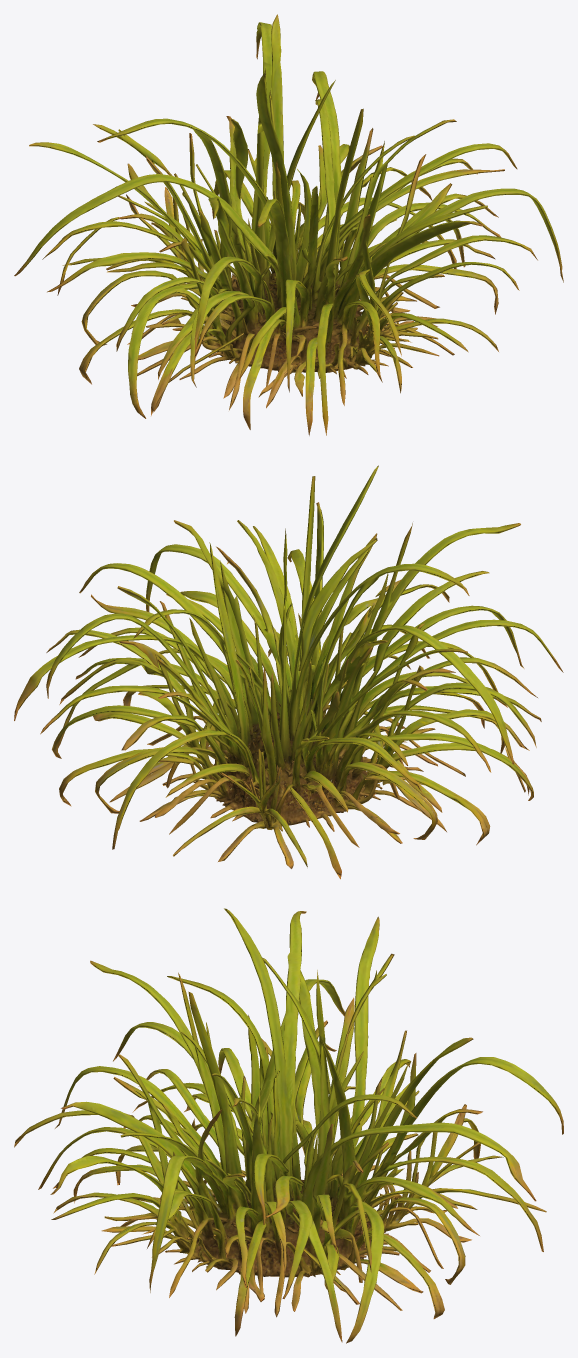
The model's file is grassLight-v1.glb.
3 views of the same model, one above another, from view 1: azimuth 30°, elevation 25°; view 2: azimuth 150°, elevation 25°; view 3: azimuth 270°, elevation 25° (orthographic). The views are drawn at different scales.
Parts seen in each view (by area): view 1: tripo_node_8fbcf214-b8a0-4c57-838d-b597ede164c9; view 2: tripo_node_8fbcf214-b8a0-4c57-838d-b597ede164c9; view 3: tripo_node_8fbcf214-b8a0-4c57-838d-b597ede164c9.
Boxes of the visible parts, x1=… form: tripo_node_8fbcf214-b8a0-4c57-838d-b597ede164c9: x1=14, y1=14, x2=563, y2=435; tripo_node_8fbcf214-b8a0-4c57-838d-b597ede164c9: x1=14, y1=465, x2=563, y2=879; tripo_node_8fbcf214-b8a0-4c57-838d-b597ede164c9: x1=14, y1=908, x2=563, y2=1343.
Bounding box in the file's own units: 1.06 × 0.6752 × 1.06.
1 material, 1 textured.
